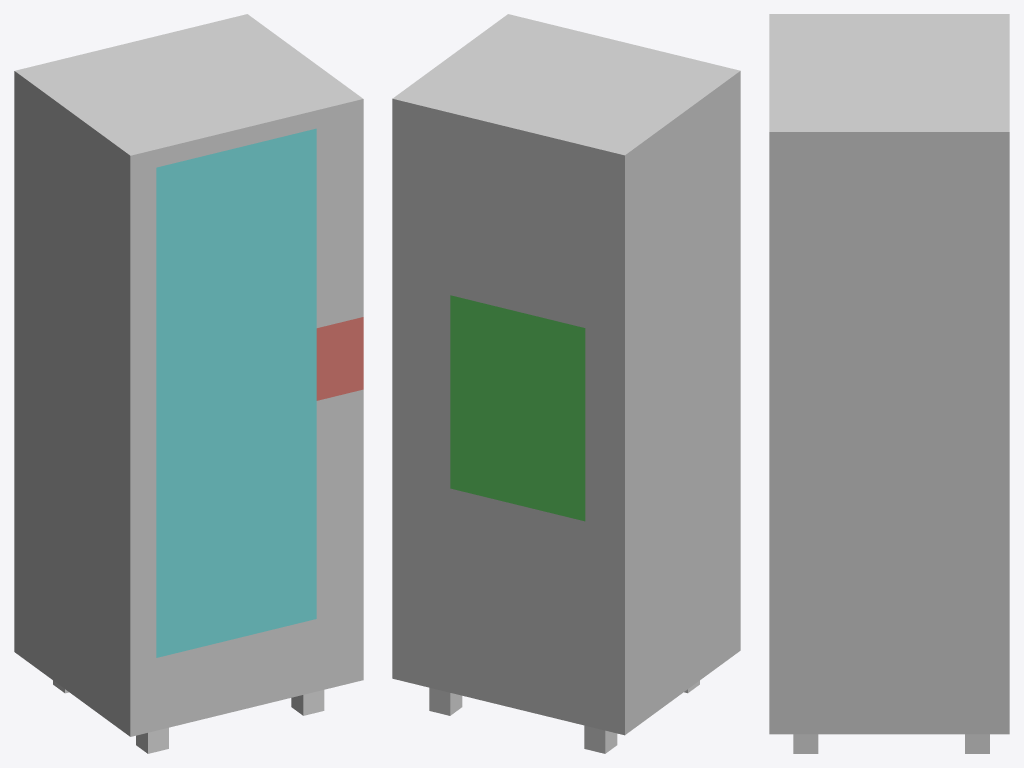
The model's file is vending_machine.fbx.
3 views of the same model, side by side, from view 1: azimuth 30°, elevation 25°; view 2: azimuth 150°, elevation 25°; view 3: azimuth 270°, elevation 25° (orthographic). The views are drawn at different scales.
Parts seen in each view (by area): view 1: Cube, Cube.001, Cube.002; view 2: Cube, Cube.004, Cube.003; view 3: Cube, Cube.001, Cube.003.
Boxes of the visible parts, x1,y1,x2,y2 form: Cube: (14,14,363,736); Cube.001: (291,690,324,715); Cube.002: (136,727,168,753); Cube: (392,14,740,735); Cube.004: (584,725,617,753); Cube.003: (429,687,462,715); Cube: (769,14,1009,734); Cube.001: (793,734,818,753); Cube.003: (965,734,989,753).
Bounding box in the file's own units: 603 × 1519 × 520.
